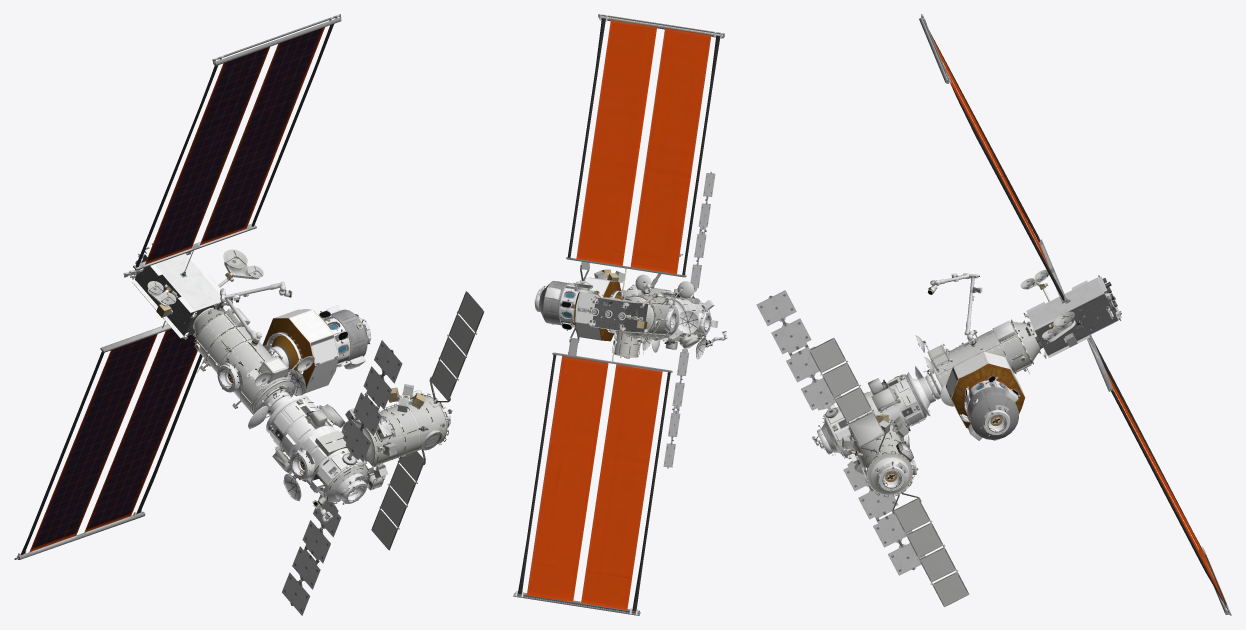
File: gateway.min.glb
3 views of the same model, side by side, from view 1: azimuth 30°, elevation 25°; view 2: azimuth 150°, elevation 25°; view 3: azimuth 270°, elevation 25° (orthographic). The views are drawn at different scales.
Visible parts, largest first — view 1: Maxar_PPE Array, I-Hab, Airlock, NG_HALO.001, ERMXL_LoRes, Maxar_PPE.001, NDS port active hatch.006, NDS port active hatch.007, Big Arm_1; view 2: Maxar_PPE Array, I-Hab, ERMXL_LoRes, Maxar_PPE.001, NG_HALO.001, Airlock, NDS port active hatch.006, NDS port active hatch.007; view 3: Airlock, I-Hab, Maxar_PPE Array, Maxar_PPE.001, ERMXL_LoRes, NG_HALO.001, NDS port active hatch.006, NDS port active hatch.007, Big Arm_1.
Part boxes in pixels (x1,y1,x2,y2): Maxar_PPE Array: [14, 14, 341, 559]; I-Hab: [266, 340, 402, 615]; Airlock: [341, 291, 484, 550]; NG_HALO.001: [193, 307, 314, 417]; ERMXL_LoRes: [262, 305, 367, 393]; Maxar_PPE.001: [123, 243, 263, 340]; NDS port active hatch.006: [248, 396, 450, 504]; NDS port active hatch.007: [217, 314, 371, 414]; Big Arm_1: [220, 281, 332, 522]; Maxar_PPE Array: [513, 14, 724, 615]; I-Hab: [662, 171, 718, 468]; ERMXL_LoRes: [539, 277, 624, 341]; Maxar_PPE.001: [573, 281, 675, 333]; NG_HALO.001: [620, 274, 693, 354]; Airlock: [568, 261, 650, 358]; NDS port active hatch.006: [642, 307, 711, 359]; NDS port active hatch.007: [534, 286, 677, 332]; Airlock: [809, 338, 969, 607]; I-Hab: [756, 290, 930, 575]; Maxar_PPE Array: [919, 14, 1231, 615]; Maxar_PPE.001: [1020, 269, 1121, 358]; ERMXL_LoRes: [945, 351, 1025, 440]; NG_HALO.001: [915, 319, 1041, 396]; NDS port active hatch.006: [816, 366, 935, 491]; NDS port active hatch.007: [925, 342, 1010, 436]; Big Arm_1: [812, 273, 982, 448].
Bounding box in the file's own units: 17.88 × 38.97 × 30.06.
Materials: 13 (13 with a texture image).
